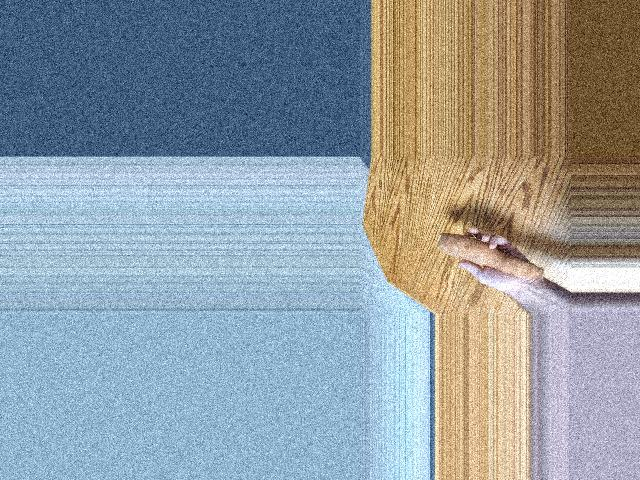sweet_potato: (438, 230, 541, 282)
